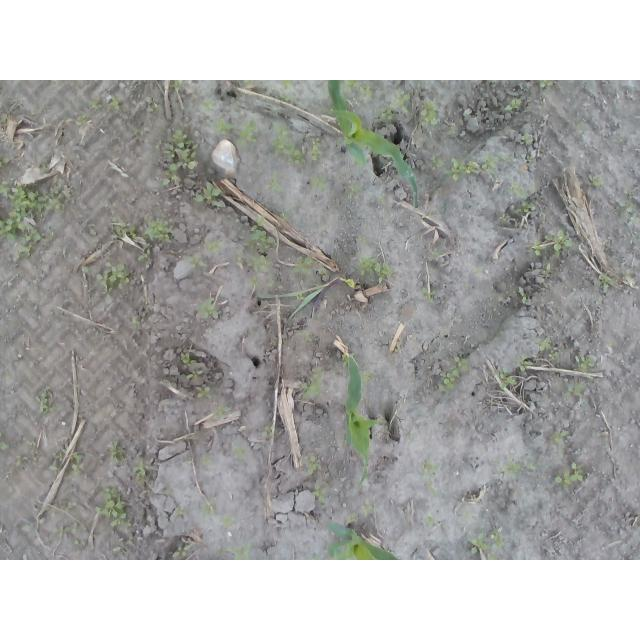Maize: (324, 80, 419, 208), (342, 352, 375, 488), (255, 277, 338, 331), (322, 520, 402, 561)
Weeds: (0, 175, 76, 261), (111, 215, 177, 263), (378, 88, 442, 129), (431, 153, 514, 182), (160, 128, 200, 187), (244, 217, 274, 274), (270, 119, 306, 165), (351, 253, 400, 284), (94, 486, 130, 526), (463, 528, 506, 561), (214, 116, 257, 149), (436, 354, 470, 394), (97, 263, 134, 298), (527, 231, 573, 258), (35, 383, 64, 417), (553, 462, 587, 489), (191, 184, 226, 209), (510, 181, 534, 215), (196, 296, 224, 320), (304, 367, 324, 399), (217, 544, 251, 561), (537, 335, 559, 361), (618, 199, 639, 225), (346, 80, 375, 98), (287, 254, 316, 272), (109, 440, 129, 465), (503, 454, 521, 481), (498, 366, 518, 390), (416, 455, 440, 475), (311, 481, 329, 507), (574, 352, 595, 373), (48, 448, 67, 471), (263, 175, 285, 193), (303, 454, 319, 478), (131, 456, 147, 480), (511, 286, 530, 305), (309, 175, 328, 194), (566, 383, 586, 401), (504, 96, 525, 113), (191, 254, 210, 272), (63, 112, 90, 124), (143, 96, 162, 113), (52, 527, 81, 538), (597, 272, 615, 289), (360, 499, 377, 517), (518, 353, 534, 372), (193, 384, 212, 400), (205, 239, 224, 255), (68, 453, 81, 476), (423, 480, 441, 496), (60, 500, 81, 513), (423, 287, 438, 305), (0, 155, 18, 170), (551, 431, 570, 445), (311, 137, 322, 161), (199, 96, 215, 112), (88, 97, 105, 112), (233, 445, 247, 463), (173, 543, 191, 557), (179, 352, 193, 369), (340, 275, 356, 289), (368, 192, 385, 205), (588, 174, 605, 187), (302, 329, 315, 346), (199, 501, 217, 513), (519, 127, 530, 145), (241, 80, 256, 93), (208, 404, 224, 416), (111, 96, 122, 113), (245, 274, 259, 287), (361, 370, 376, 382), (126, 127, 144, 137), (274, 94, 296, 102), (351, 184, 370, 193), (541, 262, 551, 279), (288, 291, 305, 301), (497, 212, 511, 224), (280, 207, 292, 221), (127, 319, 142, 330), (230, 252, 243, 264), (356, 235, 370, 246), (280, 80, 295, 90), (424, 512, 433, 528), (346, 511, 358, 523), (223, 515, 234, 528), (263, 424, 274, 437), (538, 80, 554, 88), (0, 442, 16, 450), (168, 80, 184, 88), (430, 247, 442, 257), (200, 453, 210, 465), (342, 355, 350, 369), (383, 295, 393, 306), (175, 506, 186, 516), (15, 455, 25, 466), (39, 163, 49, 174), (527, 461, 537, 471), (575, 120, 586, 129), (526, 153, 534, 164), (184, 456, 193, 465), (487, 80, 497, 88), (319, 270, 330, 276), (346, 336, 354, 344), (1, 114, 8, 123), (191, 370, 198, 378), (72, 540, 80, 545)
